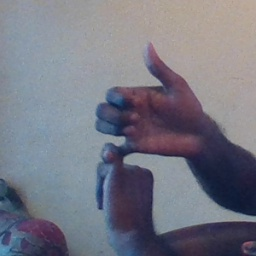S: (83, 38, 208, 223)
